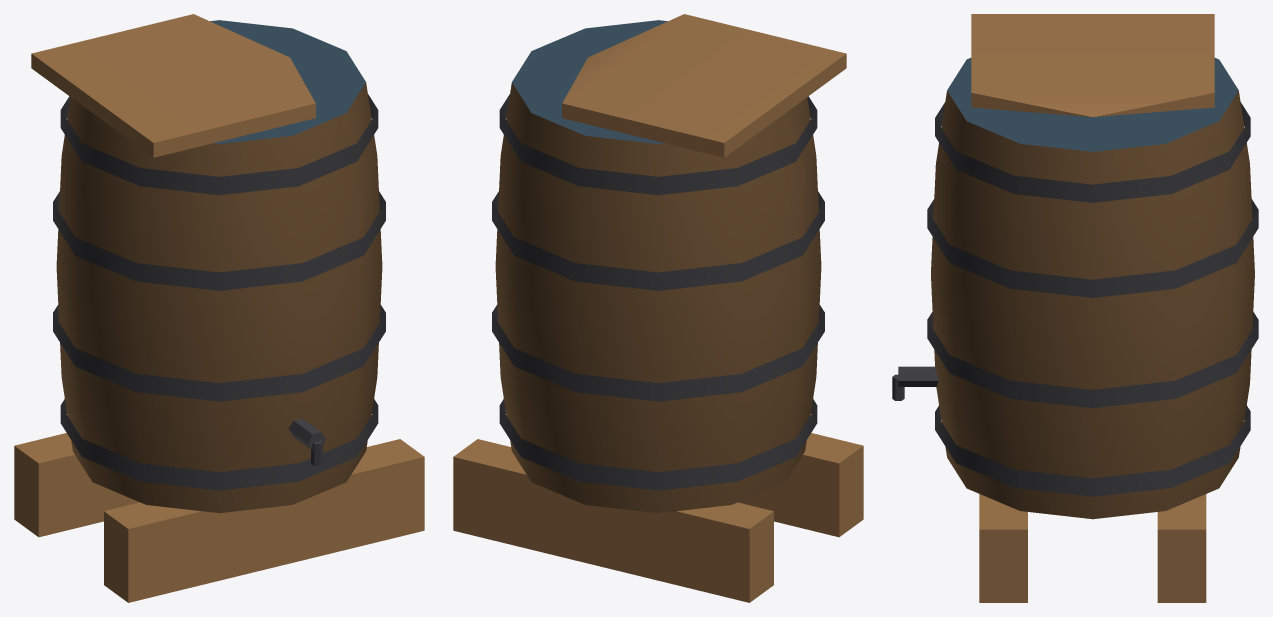
File: WaterButt.fbx
3 renders of one model, left to right at view 1: azimuth 30°, elevation 25°; view 2: azimuth 150°, elevation 25°; view 3: azimuth 270°, elevation 25°, orthographic.
Visible parts, largest first — view 1: WaterButt; view 2: WaterButt; view 3: WaterButt.
Boxes of the visible parts, x1,y1,x2,y2 form: WaterButt: (14,14,424,602); WaterButt: (453,14,863,602); WaterButt: (892,14,1258,602).
Bounding box in the file's own units: 0.84 × 1.24 × 0.9039.
